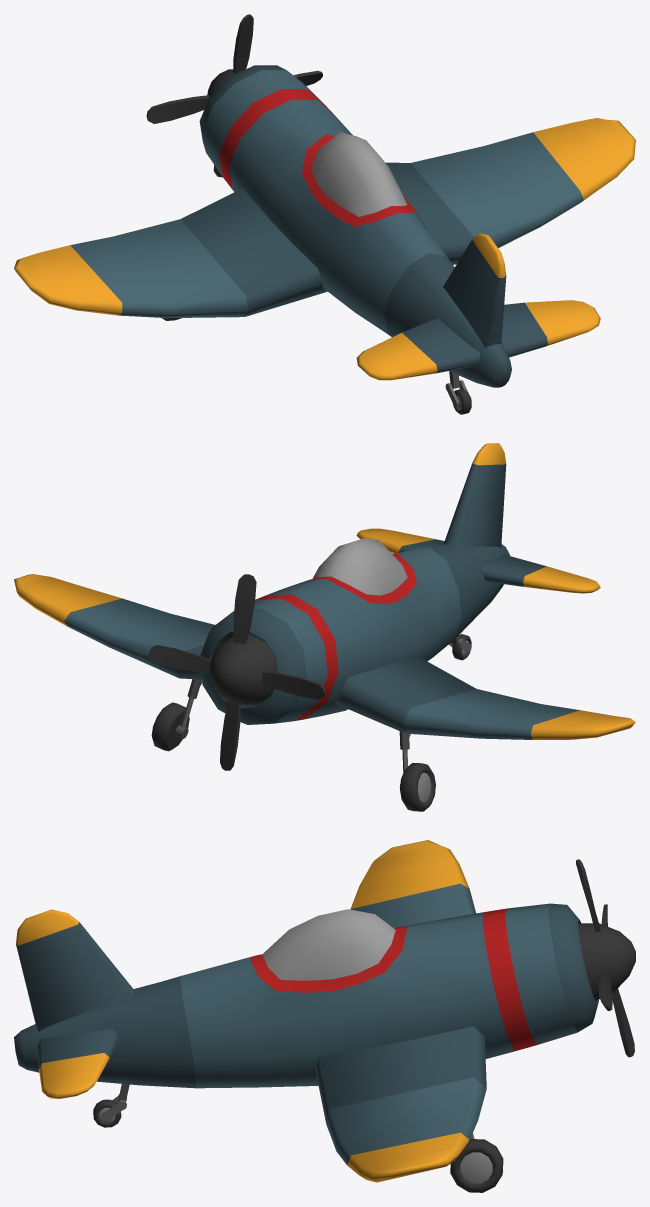
Rendered from 21C_fighter.fbx.
3 renders of one model, top to bottom at view 1: azimuth 30°, elevation 25°; view 2: azimuth 150°, elevation 25°; view 3: azimuth 270°, elevation 25°, orthographic. The views are drawn at different scales.
Parts seen in each view (by area): view 1: 21C_fighter; view 2: 21C_fighter; view 3: 21C_fighter.
Part boxes in pixels (x1,y1,x2,y2): 21C_fighter: (14,14,635,414); 21C_fighter: (14,443,635,811); 21C_fighter: (14,840,635,1192).
Bounding box in the file's own units: 131 × 49.89 × 106.
